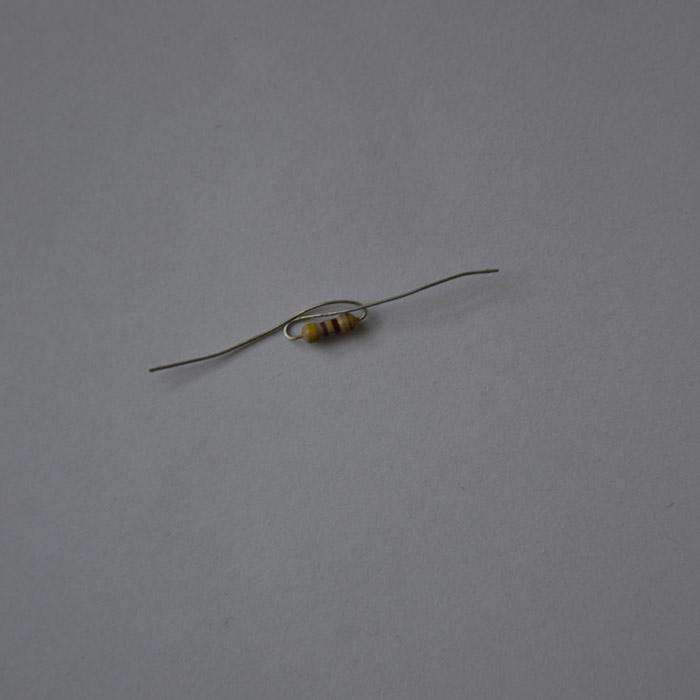resistor: (301, 313, 358, 343)
